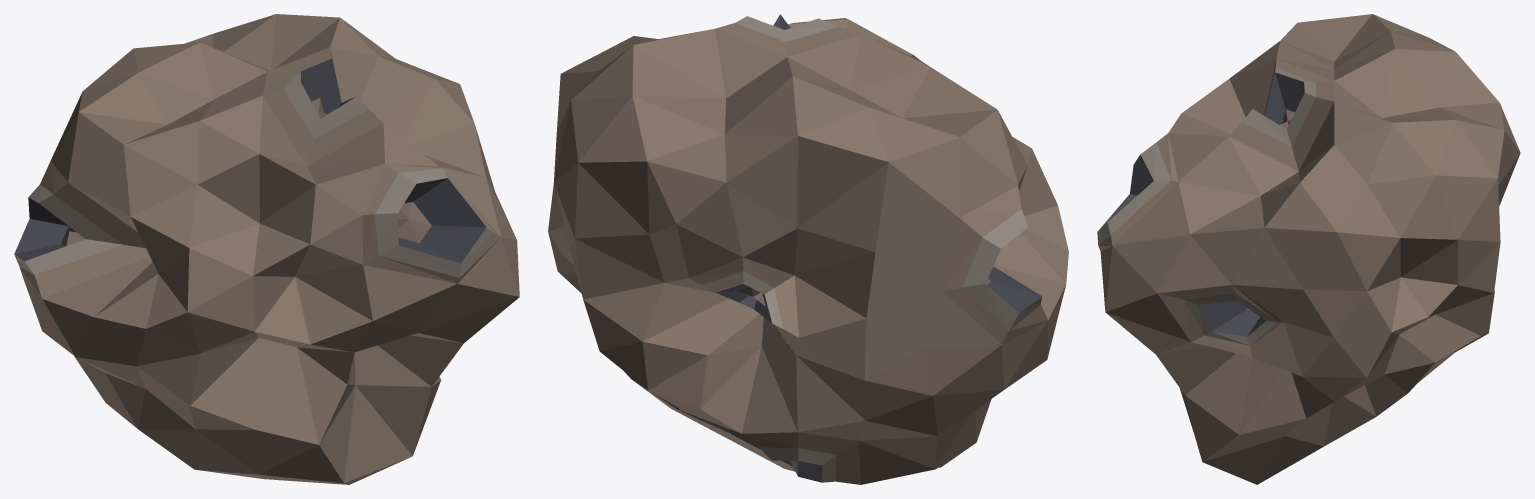
The model's file is small-asteroid-7fc86a.glb.
3 views of the same model, side by side, from view 1: azimuth 30°, elevation 25°; view 2: azimuth 150°, elevation 25°; view 3: azimuth 270°, elevation 25° (orthographic). The views are drawn at different scales.
Parts seen in each view (by area): view 1: asteroid-body; view 2: asteroid-body; view 3: asteroid-body.
Part boxes in pixels (box(x1,y1,x2,y2)): asteroid-body: box(14, 14, 519, 484); asteroid-body: box(548, 14, 1068, 484); asteroid-body: box(1097, 14, 1520, 484).
Size of the model in its own units: 2.2 by 2.02 by 1.95.
